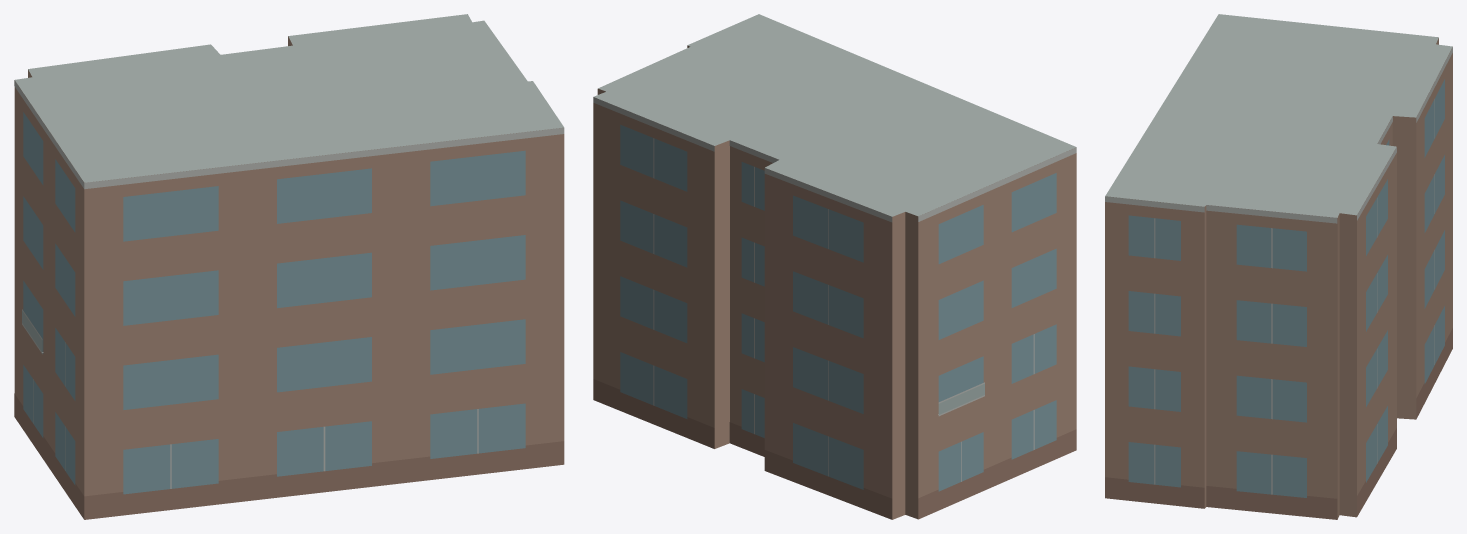
File: survey-upis-32597923.glb
3 renders of one model, left to right at view 1: azimuth 30°, elevation 25°; view 2: azimuth 150°, elevation 25°; view 3: azimuth 270°, elevation 25°, orthographic. The views are drawn at different scales.
Visible parts, largest first — view 1: survey-upis-32597923.tmp; view 2: survey-upis-32597923.tmp; view 3: survey-upis-32597923.tmp.
Part boxes in pixels (x1,y1,x2,y2): survey-upis-32597923.tmp: (14, 14, 564, 519); survey-upis-32597923.tmp: (593, 14, 1076, 519); survey-upis-32597923.tmp: (1105, 14, 1452, 519).
Bounding box in the file's own units: 18.54 × 12.8 × 13.37.
